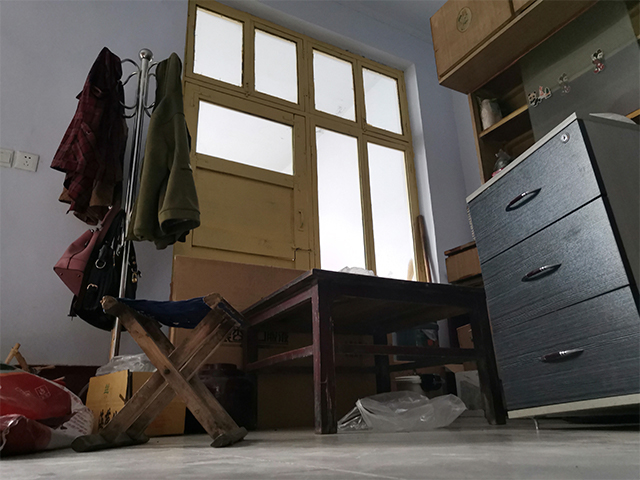cabinet: (463, 108, 639, 432)
stool: (65, 290, 250, 454)
table: (236, 267, 507, 437)
